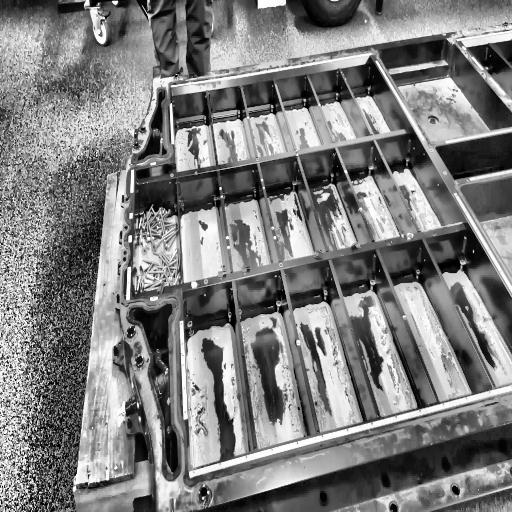b_casing: (122, 20, 512, 512)
